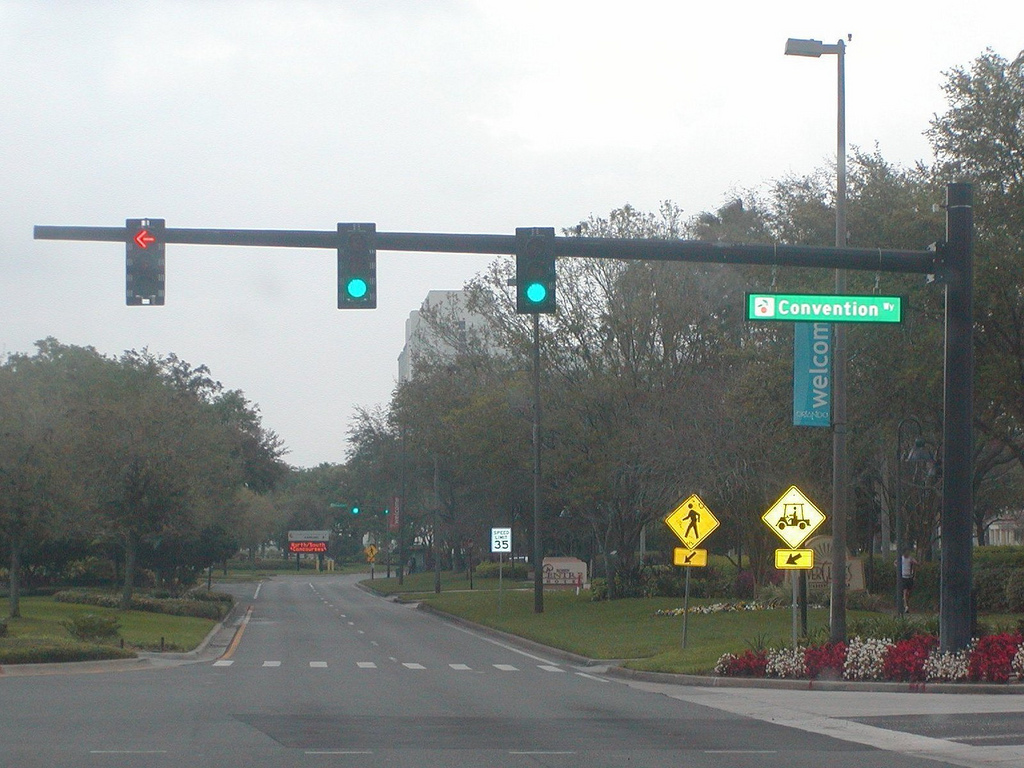traffic_light: (129, 224, 161, 298), (520, 233, 550, 308), (341, 230, 372, 302)
